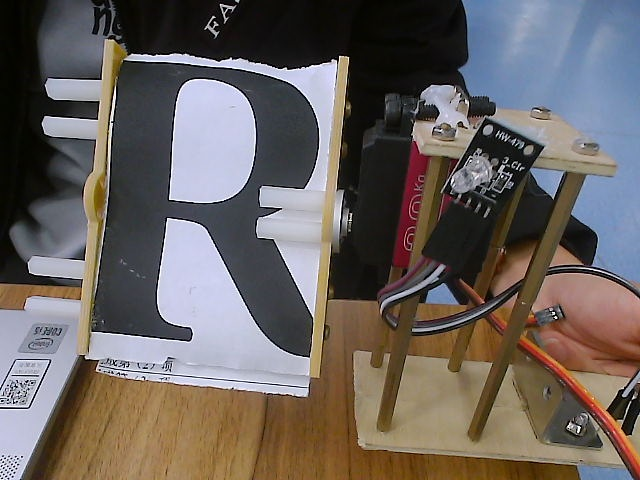R: (30, 35, 391, 428)
